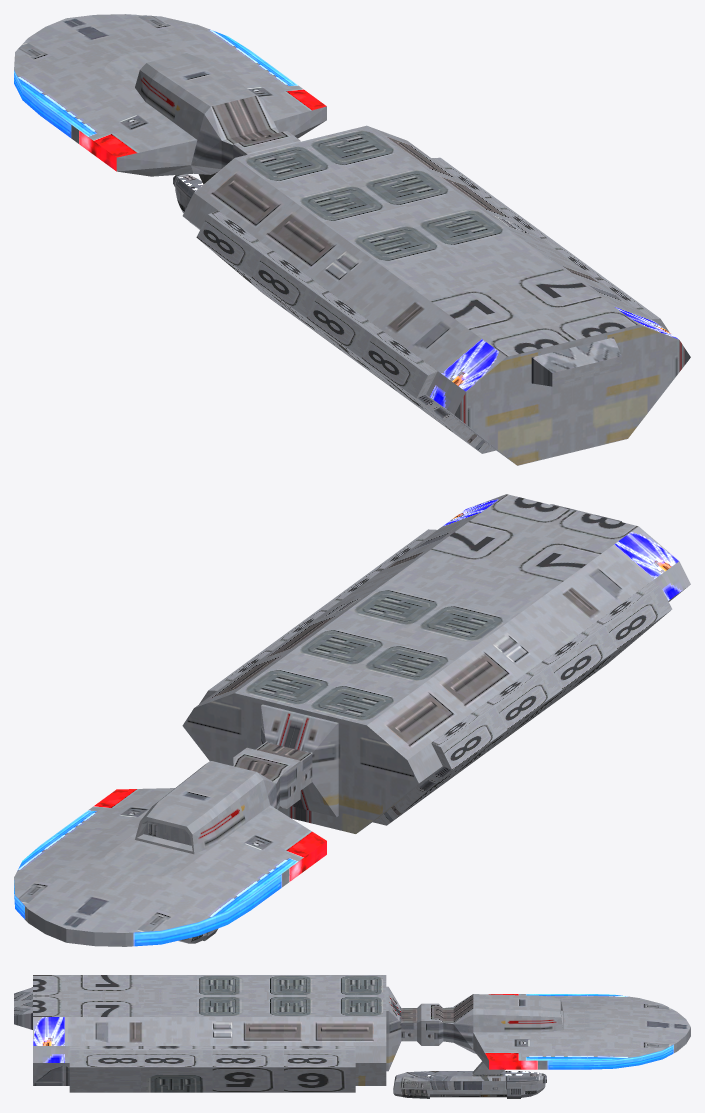
The model's file is Fed_Columbus.fbx.
3 views of the same model, one above another, from view 1: azimuth 30°, elevation 25°; view 2: azimuth 150°, elevation 25°; view 3: azimuth 270°, elevation 25° (orthographic). The views are drawn at different scales.
Visible parts, largest first — view 1: Fed_Columbus; view 2: Fed_Columbus; view 3: Fed_Columbus.
Part boxes in pixels (x1,y1,x2,y2): Fed_Columbus: [14, 14, 690, 465]; Fed_Columbus: [14, 494, 690, 946]; Fed_Columbus: [14, 975, 690, 1098].
Bounding box in the file's own units: 124 × 71.51 × 437.
Materials: 1 (1 with a texture image).
